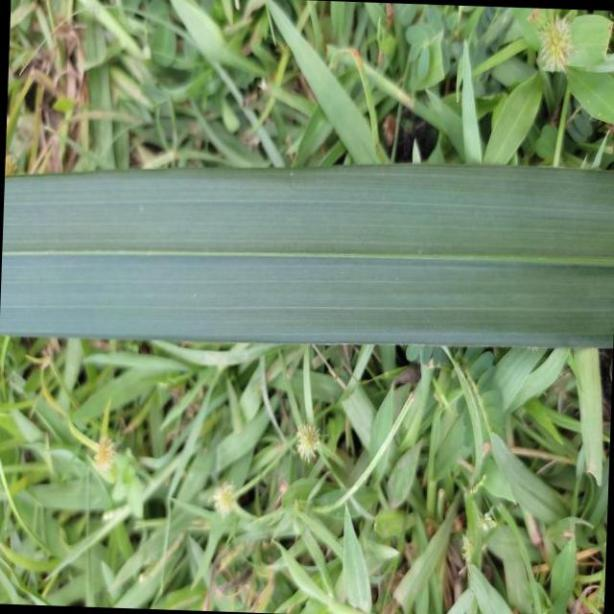Healthy: (0, 163, 614, 350)
